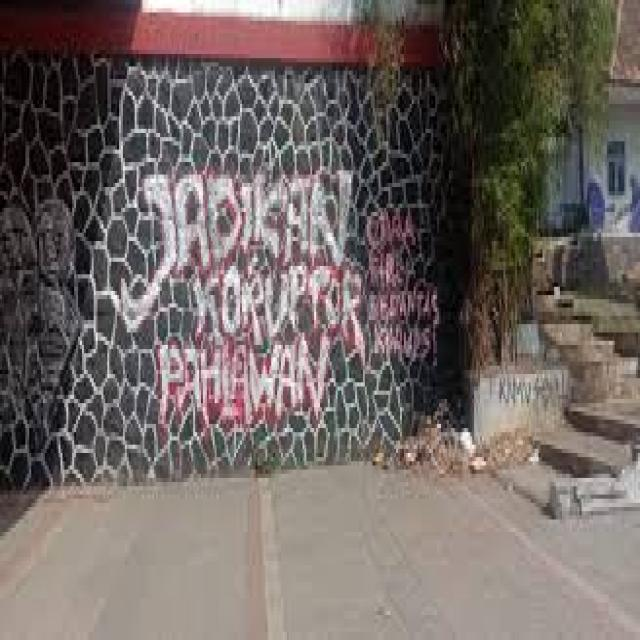-: (120, 171, 366, 422), (0, 204, 81, 412), (368, 202, 440, 370), (587, 177, 640, 230), (500, 378, 565, 410)
